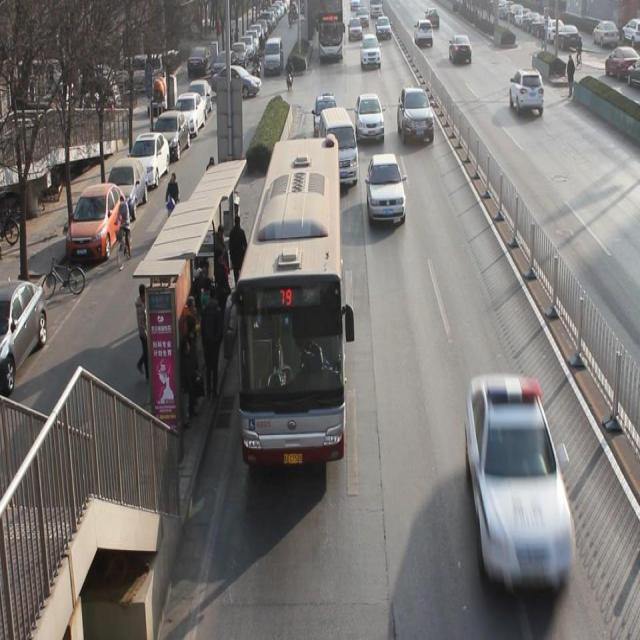car: (465, 372, 573, 590), (366, 158, 408, 227), (394, 86, 436, 150), (510, 70, 550, 121), (354, 94, 389, 144), (314, 92, 338, 138), (447, 34, 474, 66), (360, 36, 382, 71), (414, 20, 434, 48), (349, 18, 364, 44), (376, 18, 392, 38)
truck: (322, 109, 356, 186)
van: (235, 139, 346, 468), (318, 1, 343, 62)
